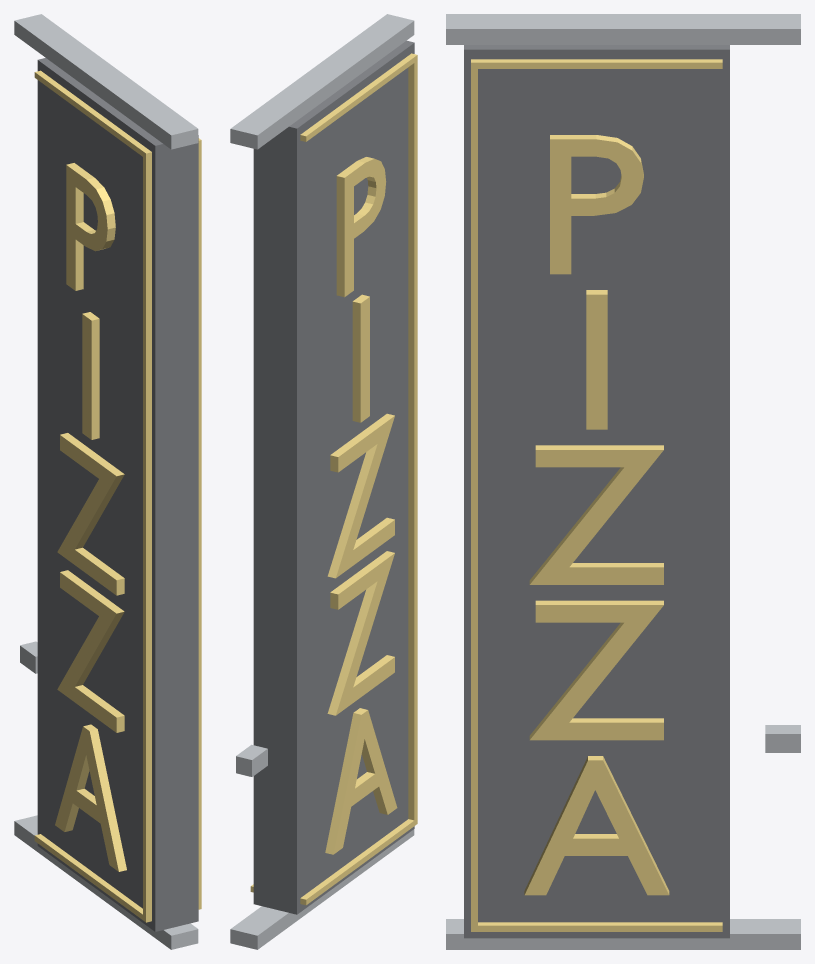
File: neon_pizza.glb
The picture shows the model from 3 angles, left to right: view 1: azimuth 30°, elevation 25°; view 2: azimuth 150°, elevation 25°; view 3: azimuth 270°, elevation 25°; orthographic projection. The views are drawn at different scales.
Visible parts, largest first — view 1: neon_pizza; view 2: neon_pizza; view 3: neon_pizza.
Part boxes in pixels (x1,y1,x2,y2): neon_pizza: (14,14,201,949); neon_pizza: (230,14,417,949); neon_pizza: (446,14,800,949).
Size of the model in its own units: 0.23 by 2.87 by 1.
